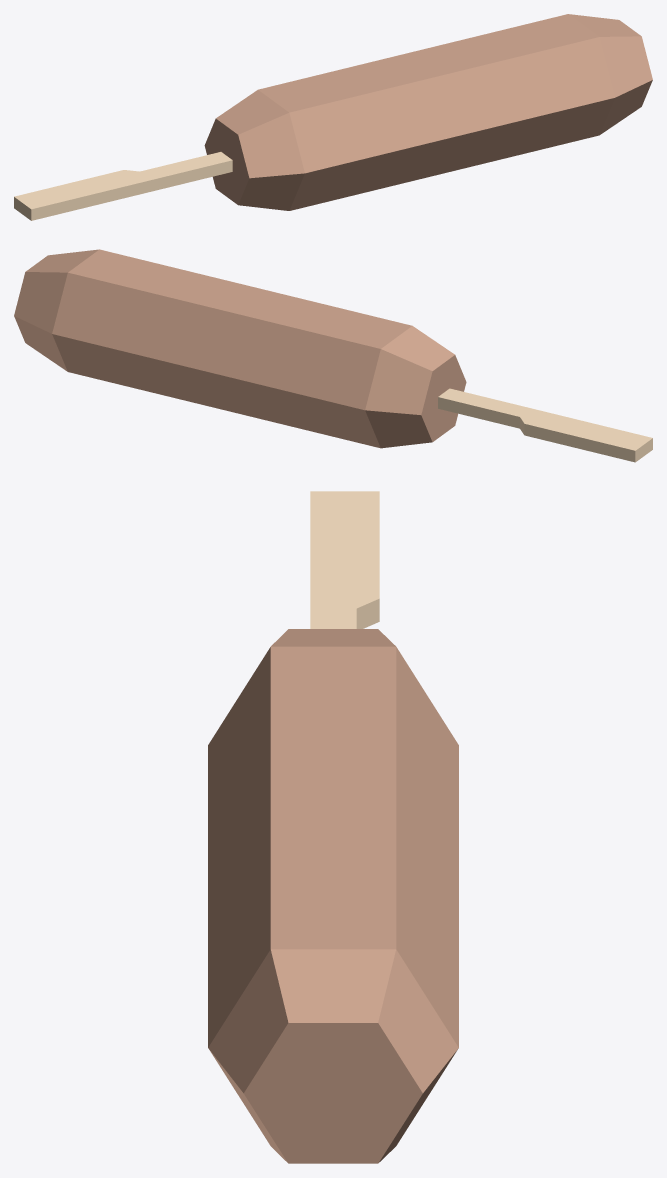
The picture shows the model from 3 angles, top to bottom: view 1: azimuth 30°, elevation 25°; view 2: azimuth 150°, elevation 25°; view 3: azimuth 270°, elevation 25°; orthographic projection. The views are drawn at different scales.
Visible parts, largest first — view 1: dog, cornDog; view 2: dog, cornDog; view 3: dog, cornDog.
Boxes of the visible parts, box(x1,y1,x2,y2) form: dog: box(204, 14, 652, 210); cornDog: box(14, 152, 232, 220); dog: box(14, 249, 466, 448); cornDog: box(438, 388, 652, 462); dog: box(208, 629, 458, 1163); cornDog: box(310, 491, 379, 628).
Size of the model in its own units: 0.6044 by 0.094 by 0.1085.
